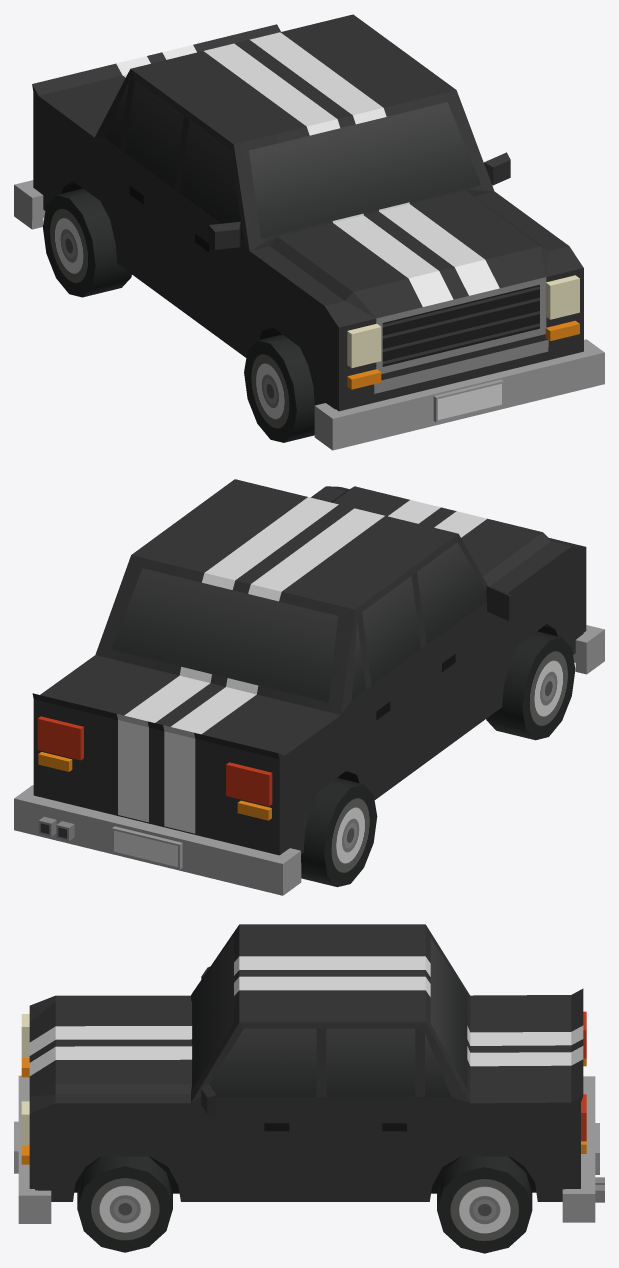
The model's file is CarB.fbx.
3 renders of one model, top to bottom at view 1: azimuth 30°, elevation 25°; view 2: azimuth 150°, elevation 25°; view 3: azimuth 270°, elevation 25°, orthographic. The views are drawn at different scales.
Parts seen in each view (by area): view 1: CarB, TireBR, TireFR; view 2: CarB, TireFR, TireBR; view 3: CarB, TireBL, TireFL.
Boxes of the visible parts, left/top/right/bottom form: CarB: left=14, top=14, right=604, bottom=450; TireBR: left=43, top=188, right=131, bottom=297; TireFR: left=244, top=334, right=314, bottom=442; CarB: left=14, top=479, right=604, bottom=895; TireFR: left=486, top=631, right=575, bottom=740; TireBR: left=301, top=778, right=377, bottom=887; CarB: left=14, top=924, right=604, bottom=1223; TireBL: left=437, top=1156, right=532, bottom=1253; TireFL: left=77, top=1156, right=172, bottom=1252.
Bounding box in the file's own units: 211 × 164 × 403.
